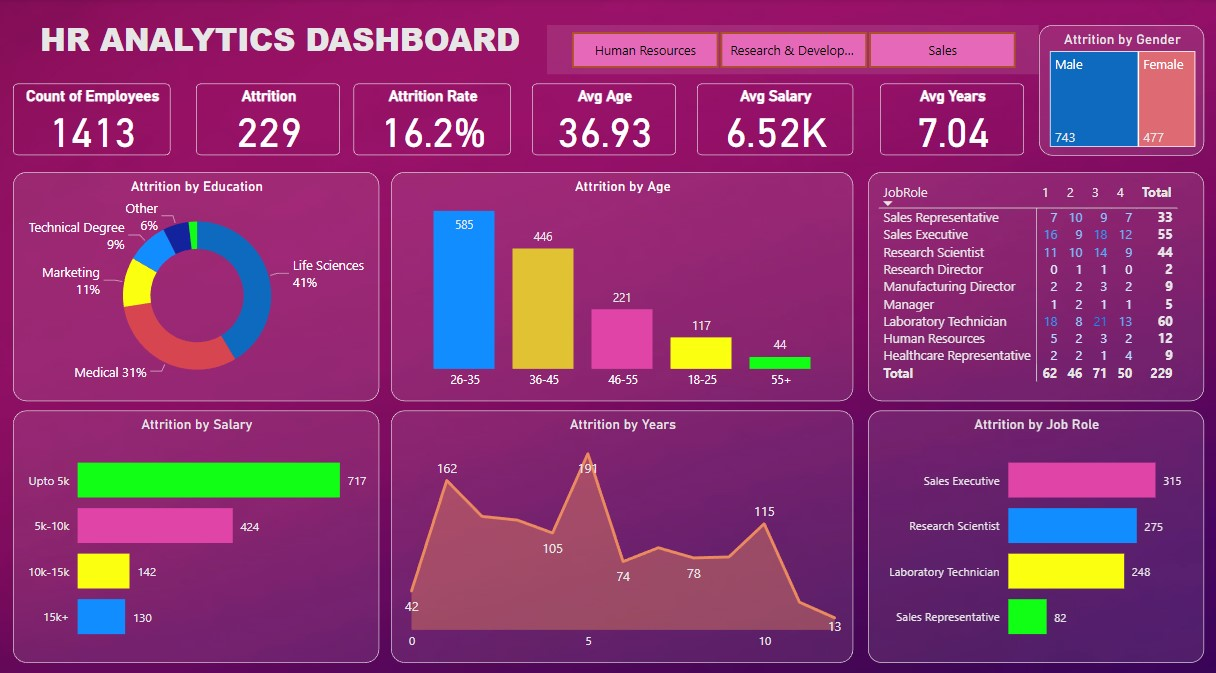

Layout of this report page (visuals, bound fields, positions):
{"tool":"powerbi","page":{"name":"Page 1","canvas":[1280,720],"ordinal":0},"visuals":[{"type":"card","title":"Count of Employees","fields":{"Values":["CountNonNull(HR_Analytics.EmpID)"]},"box":[25,89,164,75],"z":0},{"type":"card","title":"Attrition","fields":{"Values":["Sum(HR_Analytics.Attritioncount)"]},"box":[215.5,89,149.9,75],"z":1000},{"type":"card","title":"Attrition Rate","fields":{"Values":["HR_Analytics.Attritionrate"]},"box":[379.5,89,164,75],"z":2000},{"type":"card","title":"Avg Age","fields":{"Values":["Avg(HR_Analytics.Age)"]},"box":[565.4,89,149.9,75],"z":3000},{"type":"card","title":"Avg Salary","fields":{"Values":["Avg(HR_Analytics.MonthlyIncome)"]},"box":[737.2,89,162.4,75],"z":4000},{"type":"card","title":"Avg Years","fields":{"Values":["Avg(HR_Analytics.YearsAtCompany)"]},"box":[927.7,89,149.9,75],"z":5000},{"type":"donutChart","title":"Attrition by Education","fields":{"Category":["HR_Analytics.EducationField"],"Y":["CountNonNull(HR_Analytics.Attrition)"]},"box":[25,181.2,381.1,239],"z":6000},{"type":"columnChart","title":"Attrition by Age","fields":{"Category":["HR_Analytics.AgeGroup"],"Y":["CountNonNull(HR_Analytics.Attrition)"]},"box":[418.6,181.2,481,239],"z":7000},{"type":"pivotTable","fields":{"Rows":["HR_Analytics.JobRole"],"Columns":["HR_Analytics.JobSatisfaction"],"Values":["Sum(HR_Analytics.Attritioncount)"]},"box":[915.2,181.2,349.8,239],"z":8000},{"type":"barChart","title":"Attrition by Salary","fields":{"Category":["HR_Analytics.SalarySlab"],"Y":["CountNonNull(HR_Analytics.Attrition)"]},"box":[25,429.5,381.1,262.4],"z":9000},{"type":"barChart","title":"Attrition by Job Role","fields":{"Y":["CountNonNull(HR_Analytics.Attrition)"],"Category":["HR_Analytics.JobRole"]},"box":[915.2,429.5,349.8,262.4],"z":10000},{"type":"areaChart","title":"Attrition by Years","fields":{"Category":["HR_Analytics.YearsAtCompany"],"Y":["CountNonNull(HR_Analytics.Attrition)"]},"box":[418.6,429.5,481,262.4],"z":11000},{"type":"treemap","title":"Attrition by Gender","fields":{"Group":["HR_Analytics.Gender"],"Values":["CountNonNull(HR_Analytics.Attrition)"]},"box":[1093.3,28.1,171.8,135.9],"z":12000},{"type":"slicer","fields":{"Values":["HR_Analytics.Department"]},"box":[581,28.1,512.3,51.5],"z":13000},{"type":"textbox","box":[25,14.1,556,65.6],"z":14000}]}

Visuals, with their boxes in screenshot pixels (x1, y1, x2, y2), scaled from the page's 1280x720 canvas onto the 1216x673 screenshot:
"Count of Employees" card: {"left": 24, "top": 83, "right": 180, "bottom": 153}
"Attrition" card: {"left": 205, "top": 83, "right": 347, "bottom": 153}
"Attrition Rate" card: {"left": 361, "top": 83, "right": 516, "bottom": 153}
"Avg Age" card: {"left": 537, "top": 83, "right": 680, "bottom": 153}
"Avg Salary" card: {"left": 700, "top": 83, "right": 855, "bottom": 153}
"Avg Years" card: {"left": 881, "top": 83, "right": 1024, "bottom": 153}
"Attrition by Education" donutChart: {"left": 24, "top": 169, "right": 386, "bottom": 393}
"Attrition by Age" columnChart: {"left": 398, "top": 169, "right": 855, "bottom": 393}
pivotTable - HR_Analytics.JobRole x HR_Analytics.JobSatisfaction: {"left": 869, "top": 169, "right": 1202, "bottom": 393}
"Attrition by Salary" barChart: {"left": 24, "top": 401, "right": 386, "bottom": 647}
"Attrition by Job Role" barChart: {"left": 869, "top": 401, "right": 1202, "bottom": 647}
"Attrition by Years" areaChart: {"left": 398, "top": 401, "right": 855, "bottom": 647}
"Attrition by Gender" treemap: {"left": 1039, "top": 26, "right": 1202, "bottom": 153}
slicer - HR_Analytics.Department: {"left": 552, "top": 26, "right": 1039, "bottom": 74}
textbox: {"left": 24, "top": 13, "right": 552, "bottom": 74}
